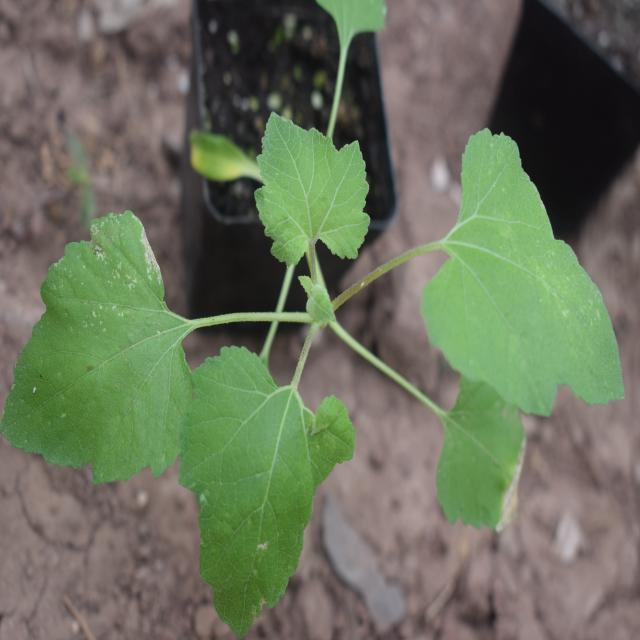cocklebur: (32, 83, 610, 594)
